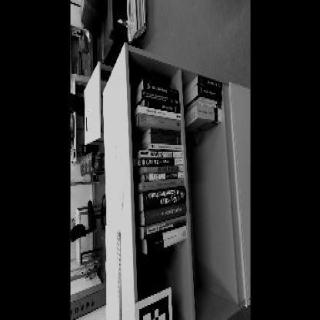book-spine: (142, 222, 191, 253), (140, 182, 188, 209), (141, 212, 189, 237), (141, 199, 189, 224), (136, 112, 183, 131), (141, 78, 181, 98), (139, 88, 181, 106), (137, 104, 182, 119), (140, 176, 185, 190), (143, 98, 181, 113), (194, 103, 224, 121), (195, 83, 224, 100), (195, 73, 224, 89), (144, 169, 184, 180), (135, 156, 183, 165), (149, 132, 183, 144), (140, 149, 183, 157), (141, 163, 184, 171), (149, 126, 181, 135), (149, 142, 183, 149), (199, 95, 222, 104), (199, 100, 221, 107)
